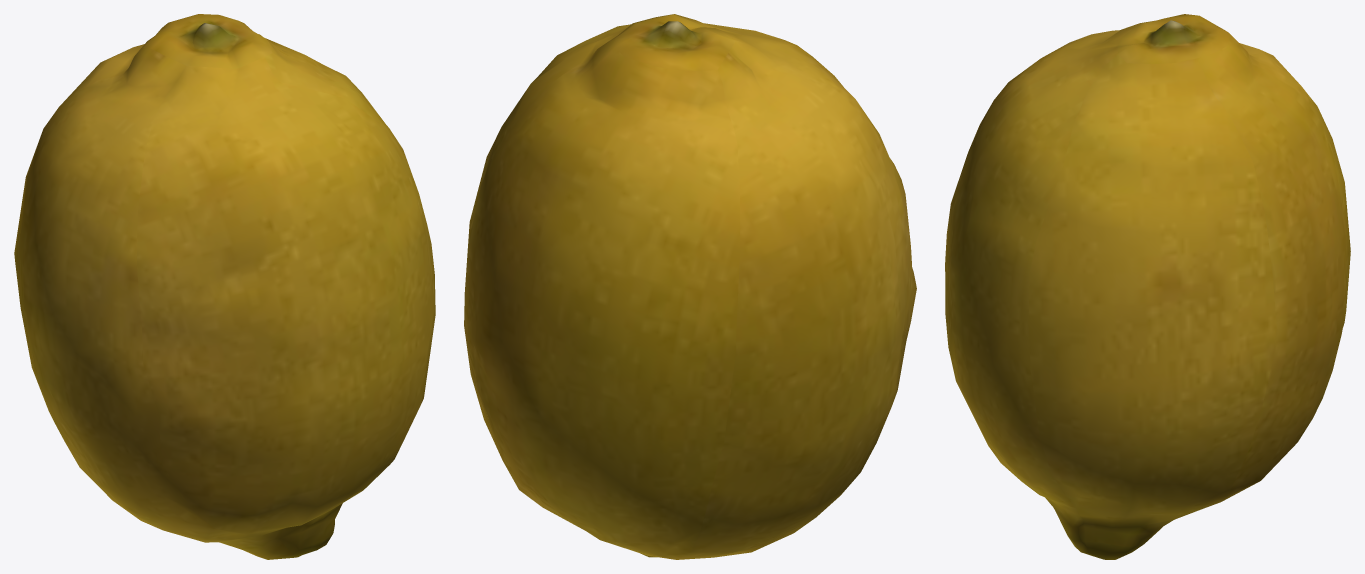
Rendered from lemon.glb.
3 views of the same model, side by side, from view 1: azimuth 30°, elevation 25°; view 2: azimuth 150°, elevation 25°; view 3: azimuth 270°, elevation 25° (orthographic). The views are drawn at different scales.
Visible parts, largest first — view 1: body; view 2: body; view 3: body.
Part boxes in pixels (left/top/right/bottom): body: left=14, top=14, right=435, bottom=559; body: left=464, top=14, right=916, bottom=559; body: left=945, top=14, right=1350, bottom=559.
Bounding box in the file's own units: 0.0687 × 0.0953 × 0.0682.
1 material, 1 textured.
